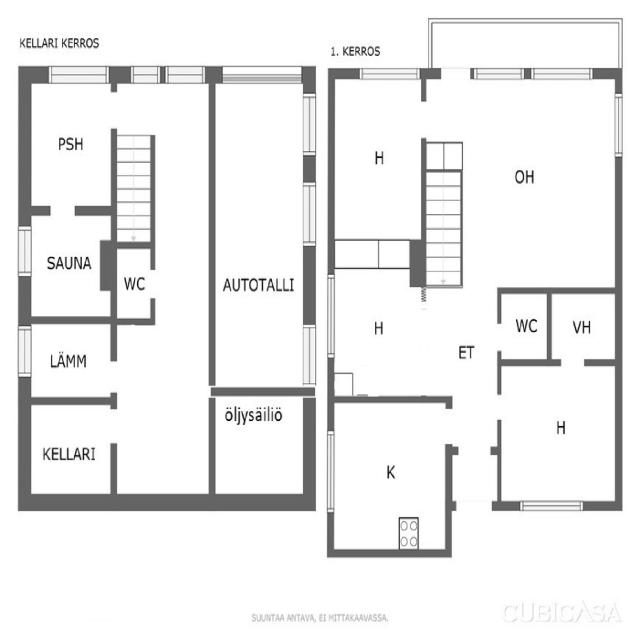window: (216, 58, 306, 90), (41, 58, 113, 89), (434, 64, 528, 86), (322, 270, 341, 372), (350, 62, 425, 86), (526, 62, 596, 86), (298, 89, 320, 162), (515, 497, 588, 517), (323, 426, 338, 518), (14, 221, 36, 282), (300, 178, 318, 252), (610, 88, 627, 165), (14, 321, 34, 384), (301, 318, 319, 388), (162, 61, 209, 86), (124, 61, 166, 86)
zone: (424, 77, 622, 294), (208, 78, 312, 399), (328, 400, 448, 554), (499, 359, 618, 506), (331, 73, 424, 258), (328, 270, 452, 401), (29, 76, 116, 215), (209, 392, 310, 500), (22, 210, 114, 321), (24, 397, 117, 503), (26, 320, 116, 400), (549, 289, 619, 364), (501, 291, 547, 362), (117, 246, 154, 323)
